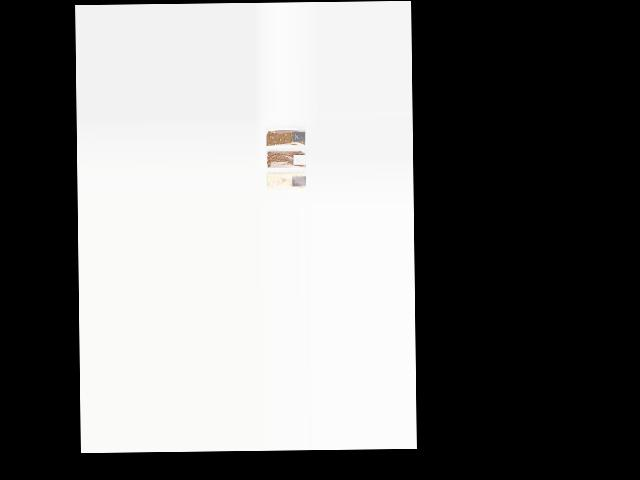chocolate: (262, 123, 304, 147)
